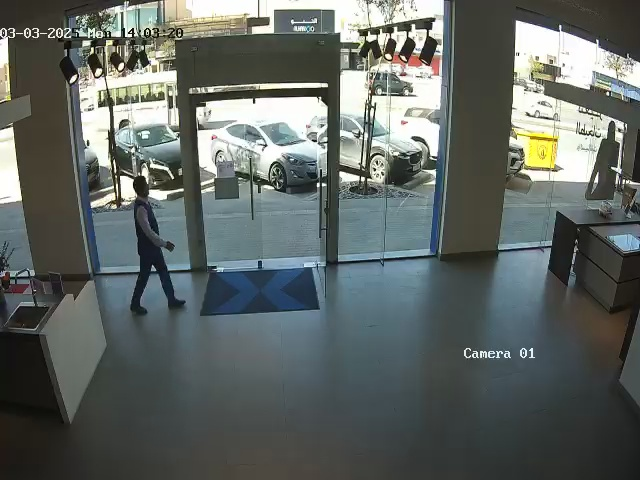employee: (129, 176, 187, 316)
